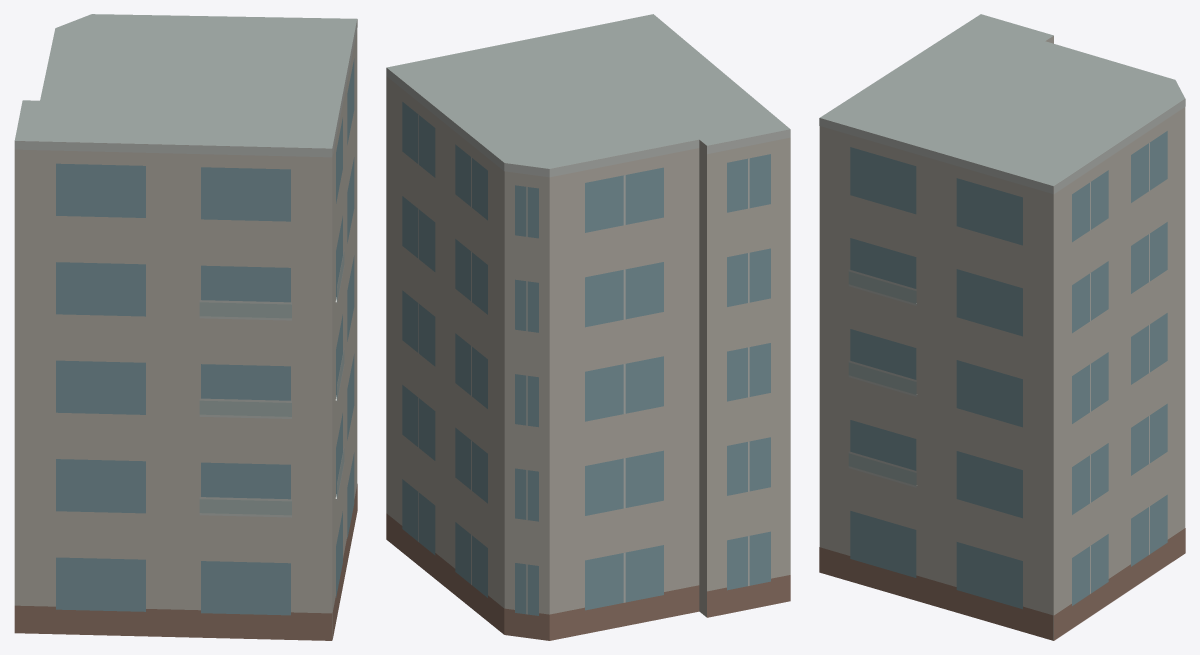
File: survey-upis-32515940.glb
The picture shows the model from 3 angles, left to right: view 1: azimuth 30°, elevation 25°; view 2: azimuth 150°, elevation 25°; view 3: azimuth 270°, elevation 25°; orthographic projection. The views are drawn at different scales.
Parts seen in each view (by area): view 1: survey-upis-32515940.tmp; view 2: survey-upis-32515940.tmp; view 3: survey-upis-32515940.tmp.
Part boxes in pixels (box(x1,y1,x2,y2)): survey-upis-32515940.tmp: box(14, 14, 357, 640); survey-upis-32515940.tmp: box(386, 14, 790, 640); survey-upis-32515940.tmp: box(819, 14, 1185, 640).
Bounding box in the file's own units: 11.14 × 13.7 × 10.
